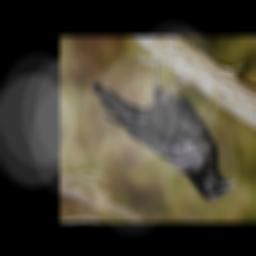Crow: (91, 53, 239, 202)
